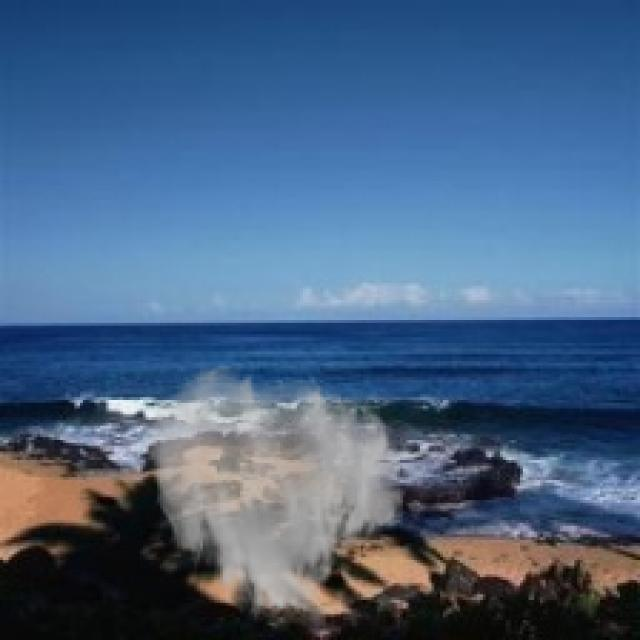Smoke: (142, 362, 408, 628)
